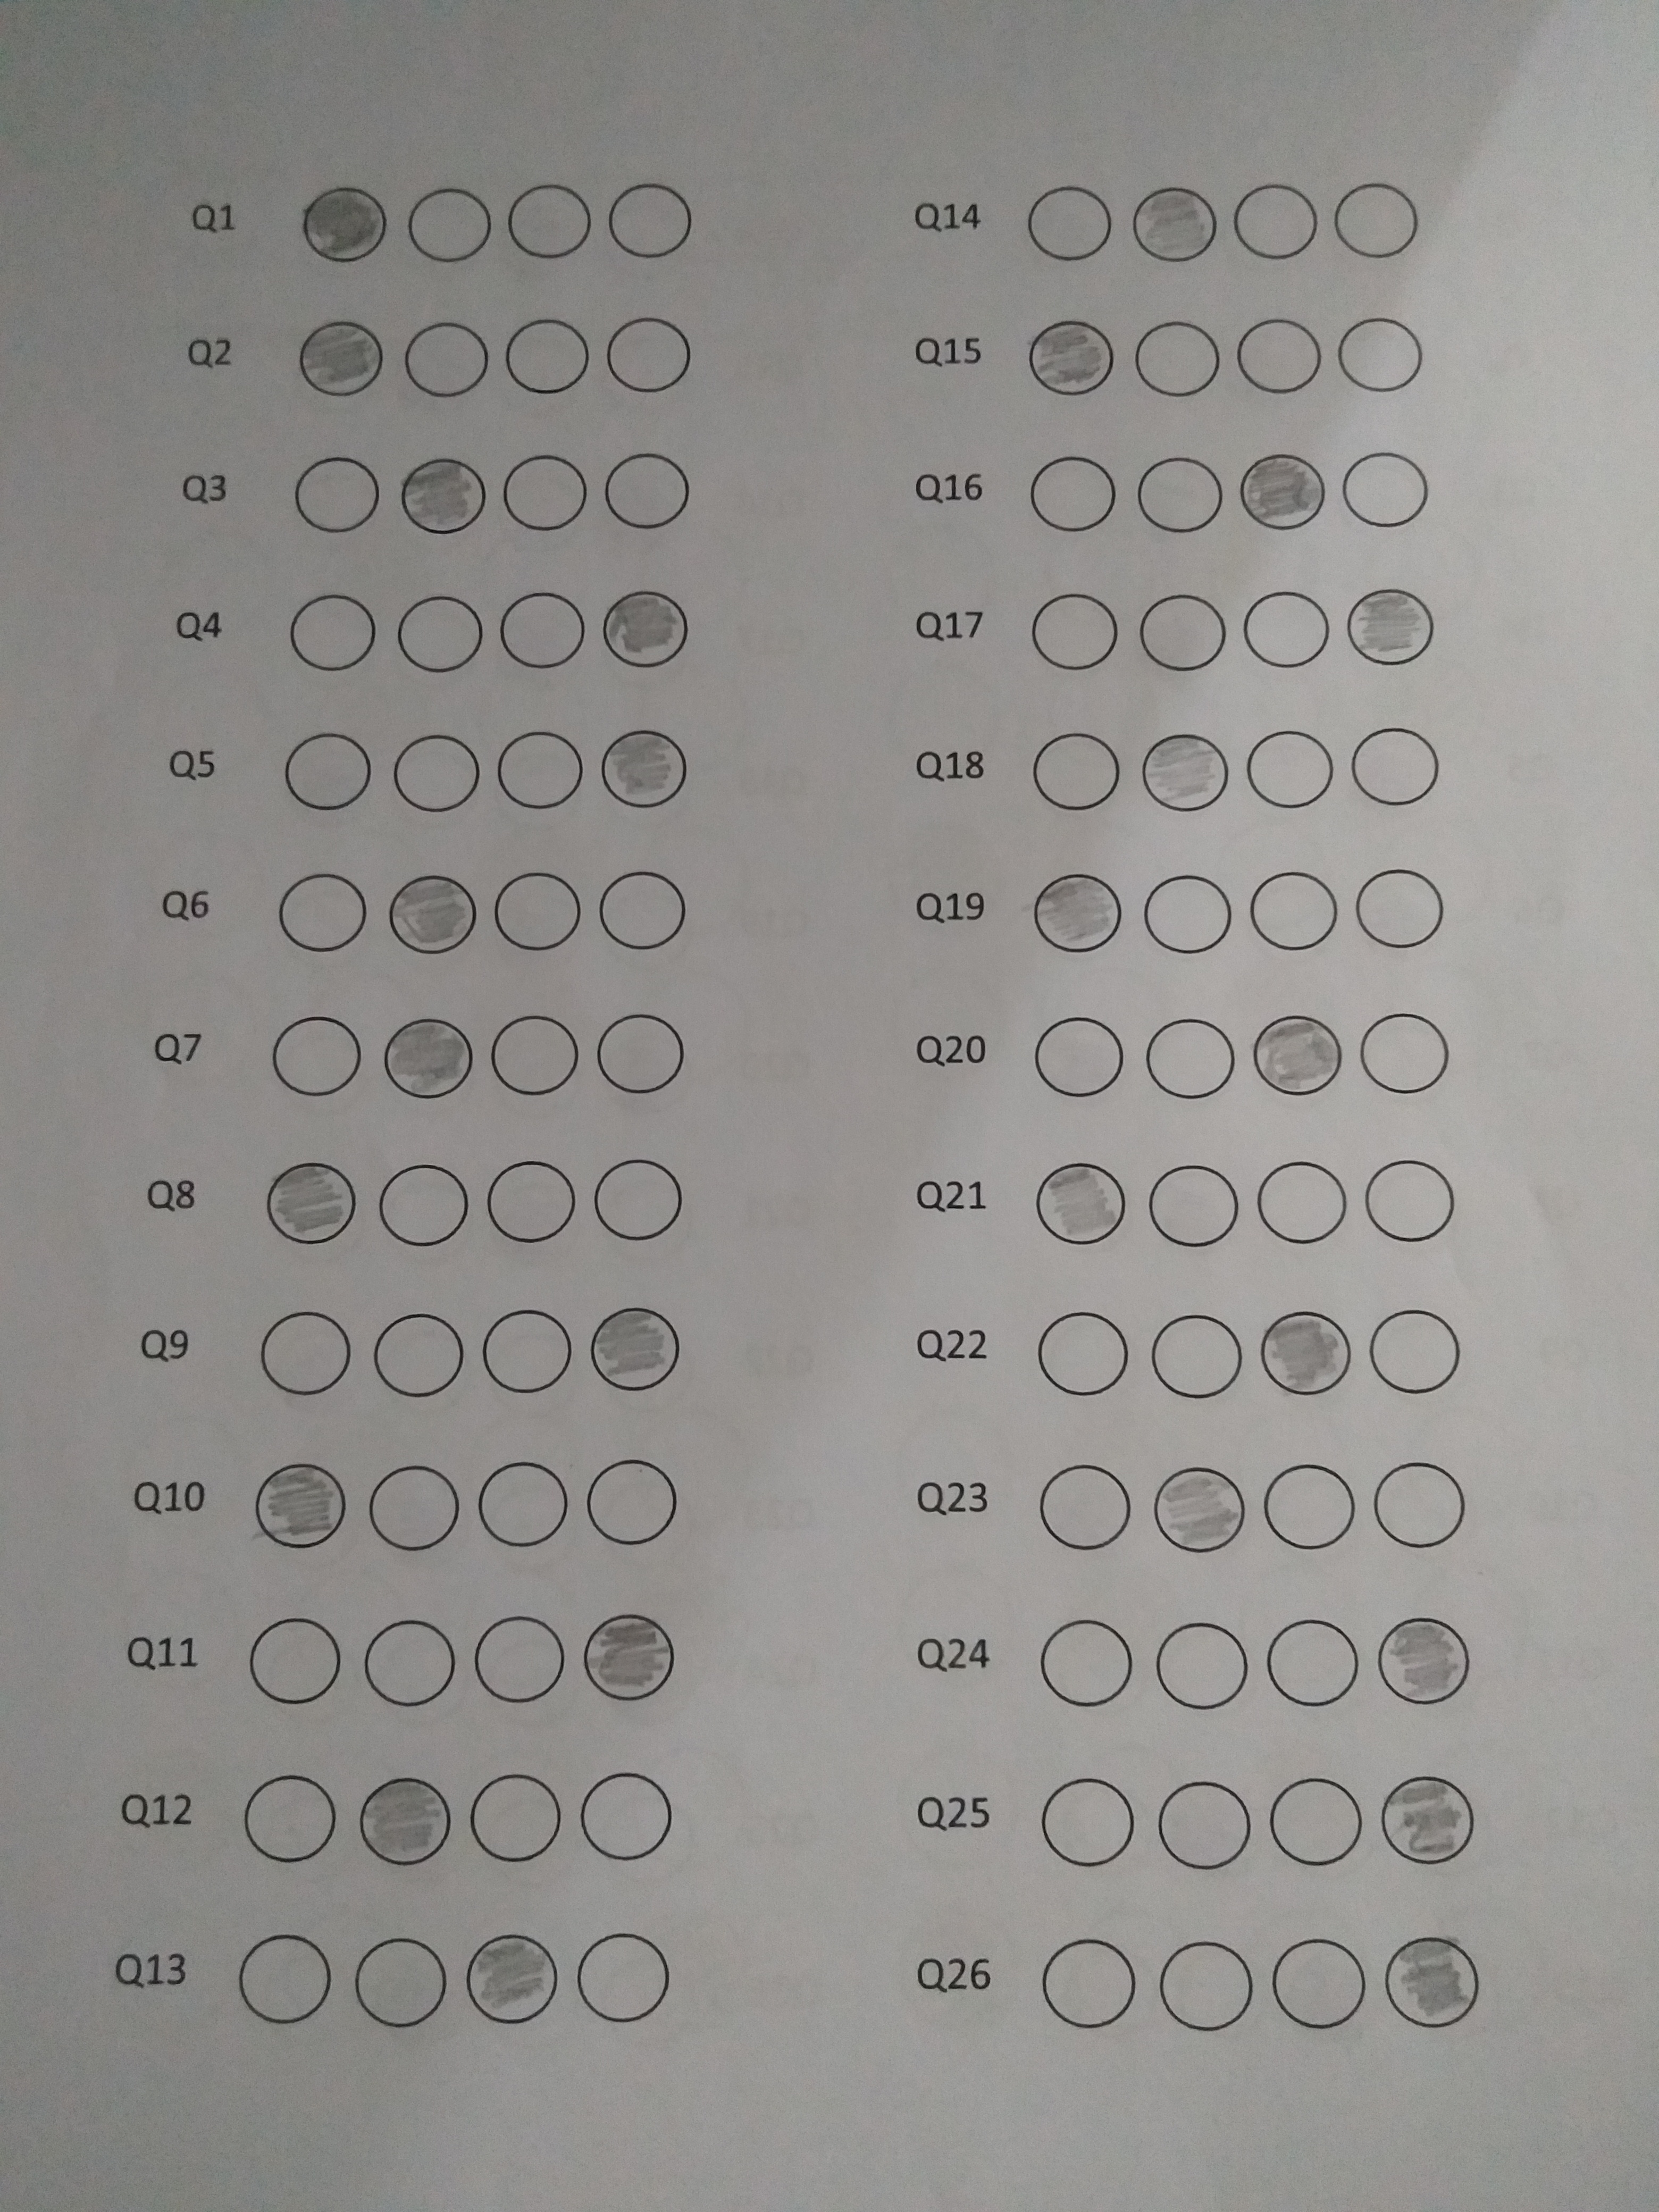not-c: (1035, 1932, 1140, 2033), (1159, 1935, 1263, 2036), (1150, 1615, 1255, 1716), (1033, 1773, 1136, 1874), (1262, 1773, 1366, 1872), (1154, 1775, 1258, 1874), (1033, 1611, 1138, 1710), (570, 1926, 674, 2026), (1267, 1932, 1370, 2031), (1263, 1611, 1366, 1710), (497, 314, 594, 404), (601, 448, 699, 538), (1021, 181, 1119, 272), (1331, 310, 1429, 401), (1338, 444, 1436, 535), (1344, 725, 1441, 815), (1246, 862, 1344, 953), (1368, 1306, 1466, 1397), (373, 1158, 471, 1249), (253, 1310, 350, 1400), (474, 1460, 572, 1550), (390, 730, 486, 820), (594, 866, 690, 956), (1028, 590, 1124, 681), (1256, 1155, 1352, 1245), (1150, 1312, 1246, 1402), (589, 1155, 685, 1245), (467, 1613, 563, 1703), (401, 179, 498, 268), (502, 183, 599, 272), (289, 451, 387, 540), (495, 589, 592, 678), (394, 589, 491, 678), (277, 728, 375, 817), (493, 726, 591, 815), (490, 869, 587, 958), (275, 867, 373, 956), (1330, 174, 1427, 263), (1229, 315, 1326, 404), (1122, 319, 1220, 408), (1021, 448, 1119, 536), (1237, 580, 1335, 669), (1026, 725, 1124, 813), (1358, 1008, 1455, 1097), (1143, 1014, 1241, 1103), (1028, 1015, 1126, 1104), (1141, 1160, 1239, 1249), (1371, 1460, 1469, 1548), (592, 1008, 690, 1097), (484, 1012, 582, 1101), (481, 1305, 579, 1393), (366, 1310, 464, 1399), (364, 1463, 462, 1552), (587, 1460, 685, 1548), (469, 1777, 566, 1865), (606, 178, 702, 266), (601, 310, 697, 399), (399, 315, 495, 404), (497, 449, 592, 538), (286, 590, 382, 679), (1234, 176, 1330, 265), (1127, 451, 1223, 540), (1134, 589, 1230, 678), (1241, 728, 1337, 817), (1354, 862, 1450, 951), (1138, 867, 1234, 956), (1359, 1157, 1455, 1245), (1033, 1312, 1129, 1400), (1040, 1463, 1136, 1552), (1258, 1463, 1354, 1552), (268, 1014, 364, 1103), (481, 1158, 577, 1247), (362, 1618, 458, 1707), (247, 1616, 343, 1705), (239, 1777, 335, 1865), (235, 1937, 331, 2026), (357, 1937, 453, 2026), (577, 1773, 673, 1862)
taken-c: (462, 1928, 566, 2027), (1378, 1773, 1483, 1871), (354, 1773, 458, 1871), (1378, 1935, 1483, 2031), (586, 1303, 688, 1399), (1371, 1613, 1476, 1707), (1028, 1157, 1133, 1249), (1246, 1007, 1351, 1099), (1145, 1465, 1249, 1557), (1253, 1305, 1358, 1397), (577, 1611, 681, 1703), (247, 1460, 352, 1552), (592, 725, 697, 817), (371, 1012, 476, 1104), (258, 1157, 361, 1249), (380, 869, 483, 960), (1129, 178, 1227, 268), (296, 181, 392, 272), (1032, 867, 1127, 958), (295, 312, 392, 401), (1025, 314, 1122, 402), (399, 449, 495, 538), (598, 587, 694, 676), (1138, 730, 1234, 819), (1337, 580, 1432, 669), (1234, 449, 1330, 538)
